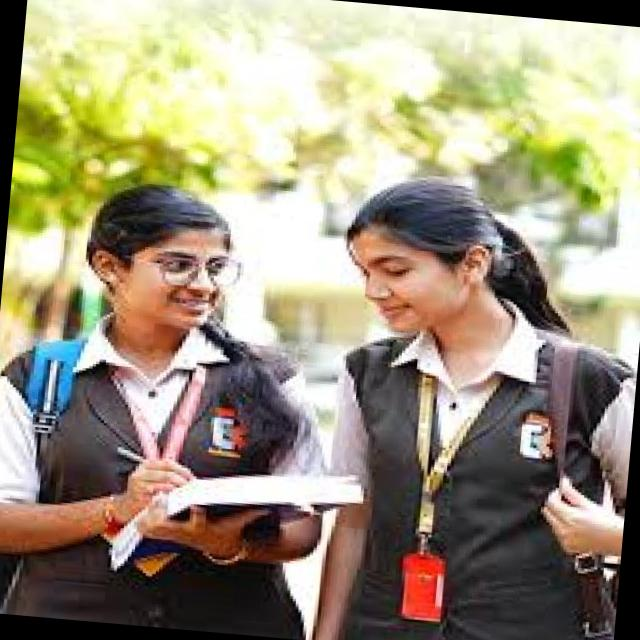id_card: (380, 360, 494, 630), (114, 364, 200, 533)
